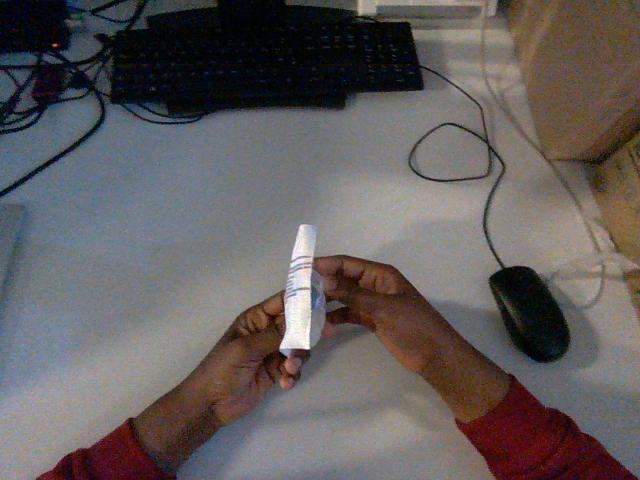syringe: (280, 224, 325, 355)
